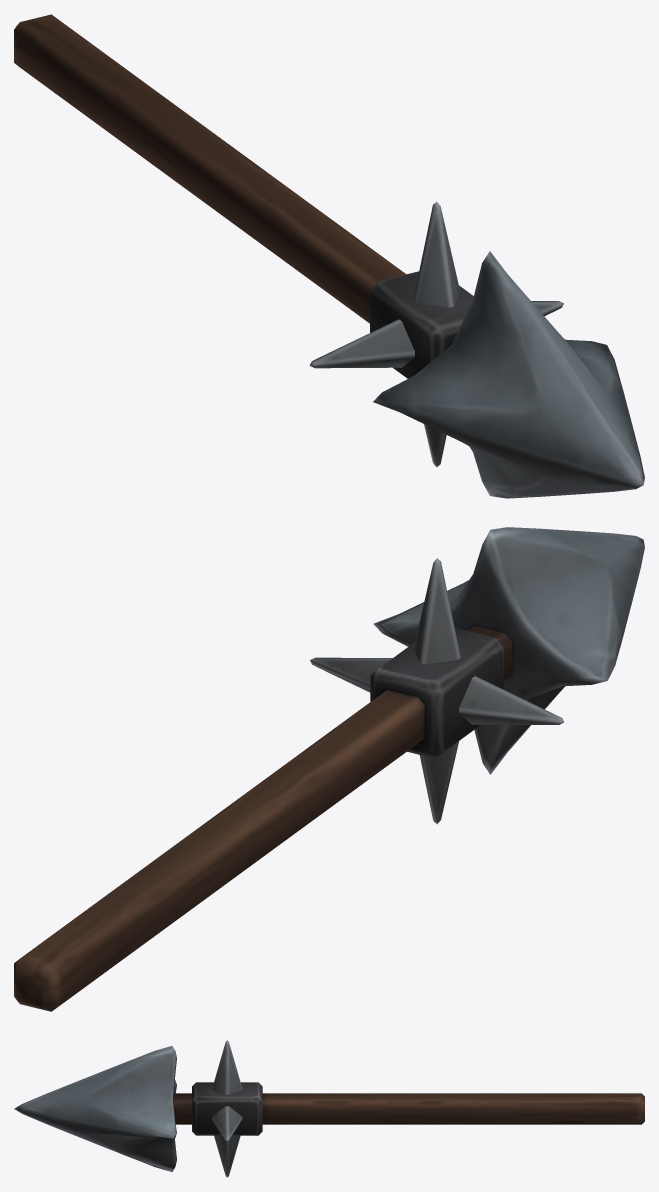
Rendered from SM_TowerDefense_Balista_Bow_Big.fbx.
The picture shows the model from 3 angles, top to bottom: view 1: azimuth 30°, elevation 25°; view 2: azimuth 150°, elevation 25°; view 3: azimuth 270°, elevation 25°; orthographic projection. The views are drawn at different scales.
Visible parts, largest first — view 1: SM_TowerDefense_Balista_Bow_Big; view 2: SM_TowerDefense_Balista_Bow_Big; view 3: SM_TowerDefense_Balista_Bow_Big.
Boxes of the visible parts, x1,y1,x2,y2 form: SM_TowerDefense_Balista_Bow_Big: (14,14,644,498); SM_TowerDefense_Balista_Bow_Big: (14,527,644,1011); SM_TowerDefense_Balista_Bow_Big: (14,1040,644,1177).
Size of the model in its own units: 139 by 139 by 577.
